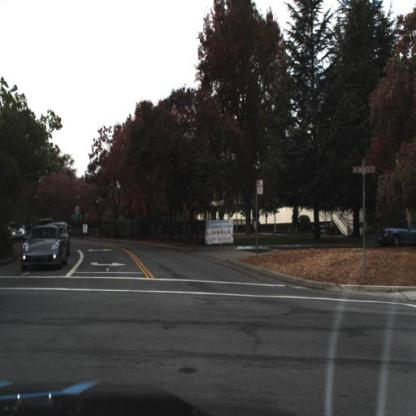car: (20, 222, 67, 271), (376, 222, 416, 249)
